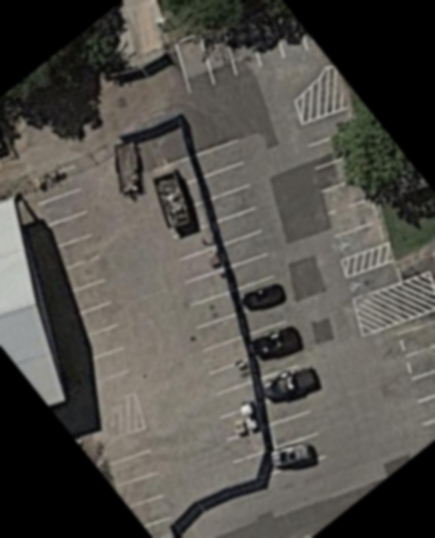parkingspot: (192, 135, 328, 475), (26, 162, 134, 390), (170, 220, 257, 421), (298, 105, 387, 261), (173, 5, 311, 96), (98, 425, 175, 529), (390, 315, 435, 447), (342, 259, 402, 303)
